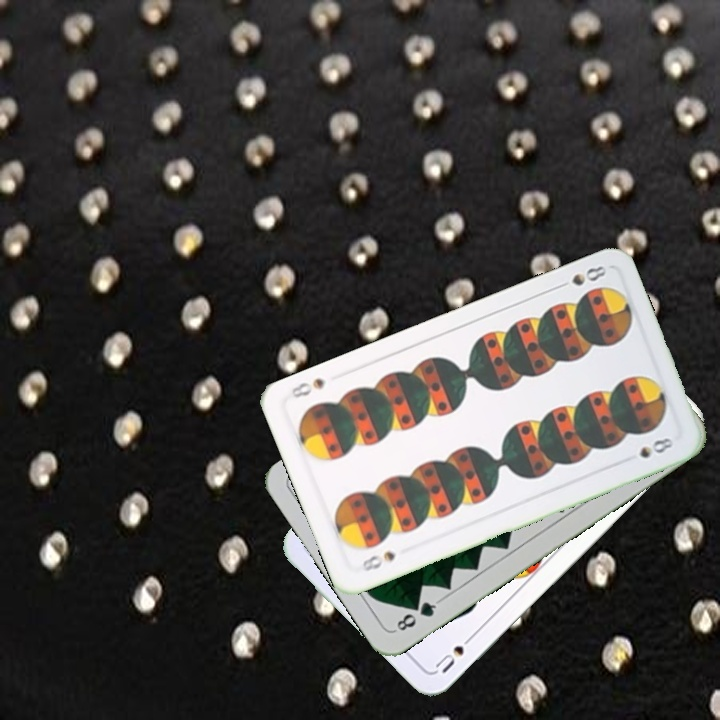G8: (390, 595, 443, 634)
S8: (552, 261, 610, 292), (356, 547, 398, 574)
SU: (431, 628, 478, 676)
